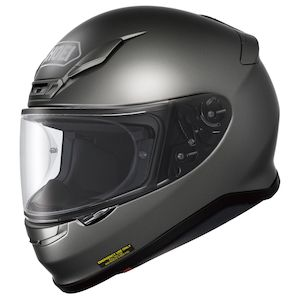helmet: (22, 9, 273, 250)
